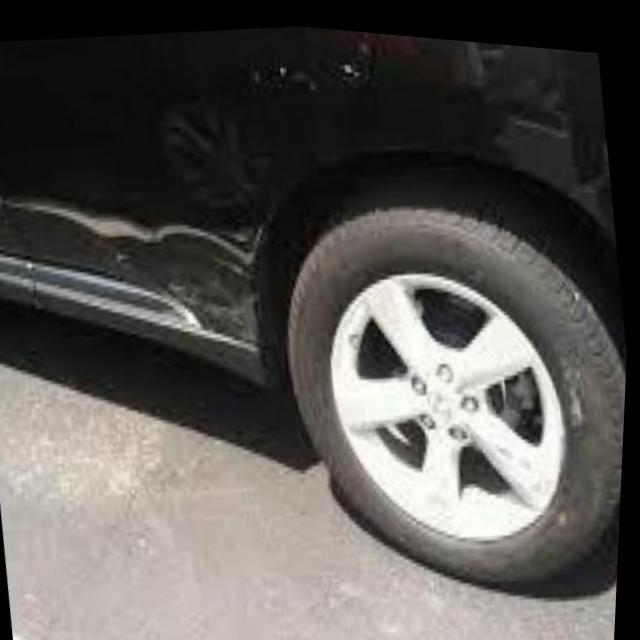rub: (158, 201, 257, 353)
